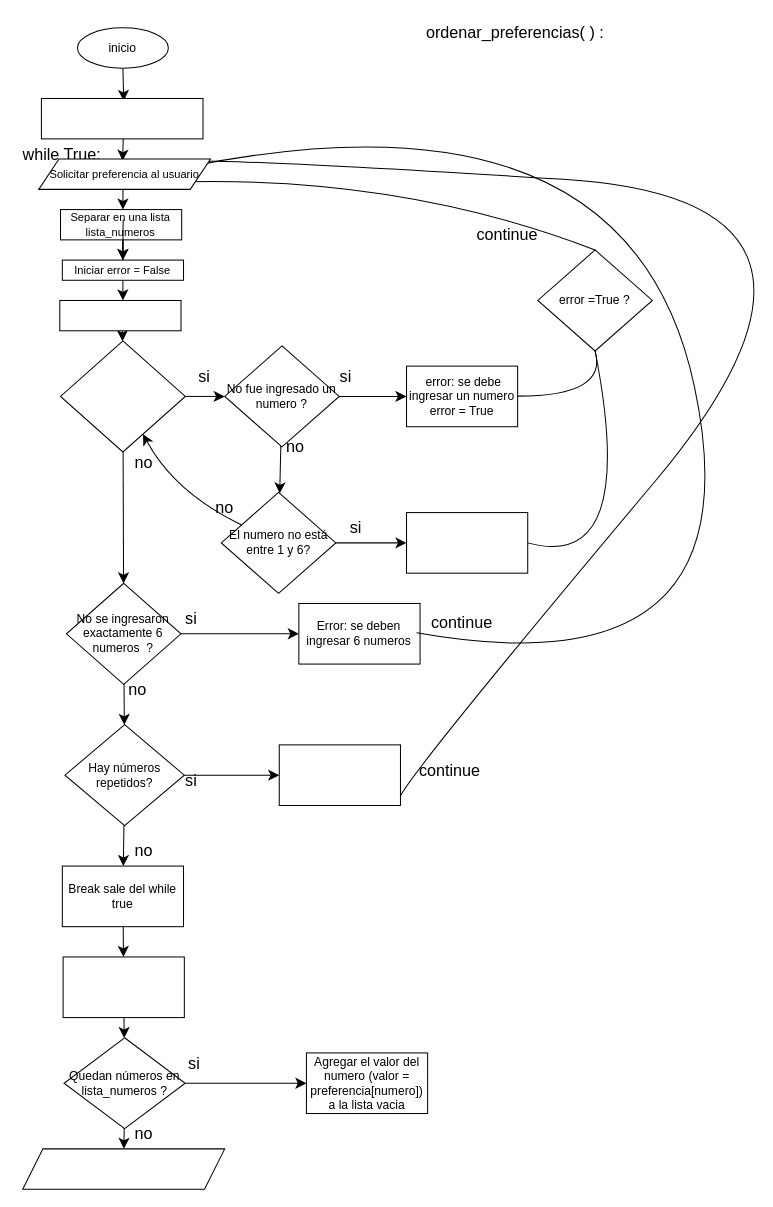
This 773x1207 diagram has some shape labels left out. The shapes that lost their labels are listed below. From the top down, each one's centre as x and y in pixels, then its label:
(121,118): Diccionario de preferencias ( clave: numero, valor: preferencia)
(120,315): Recorrer la lista_numeros
(122,396): Quedan numeros en lista_numeros?
(467,542): error: el numero debe estar entre 1 y 6 error = True
(339,774): Error: No pueden haber números repetidos
(123,987): Crear lista vacía categorias_ordenadas
(123,1168): Return categorias_ordenadas
